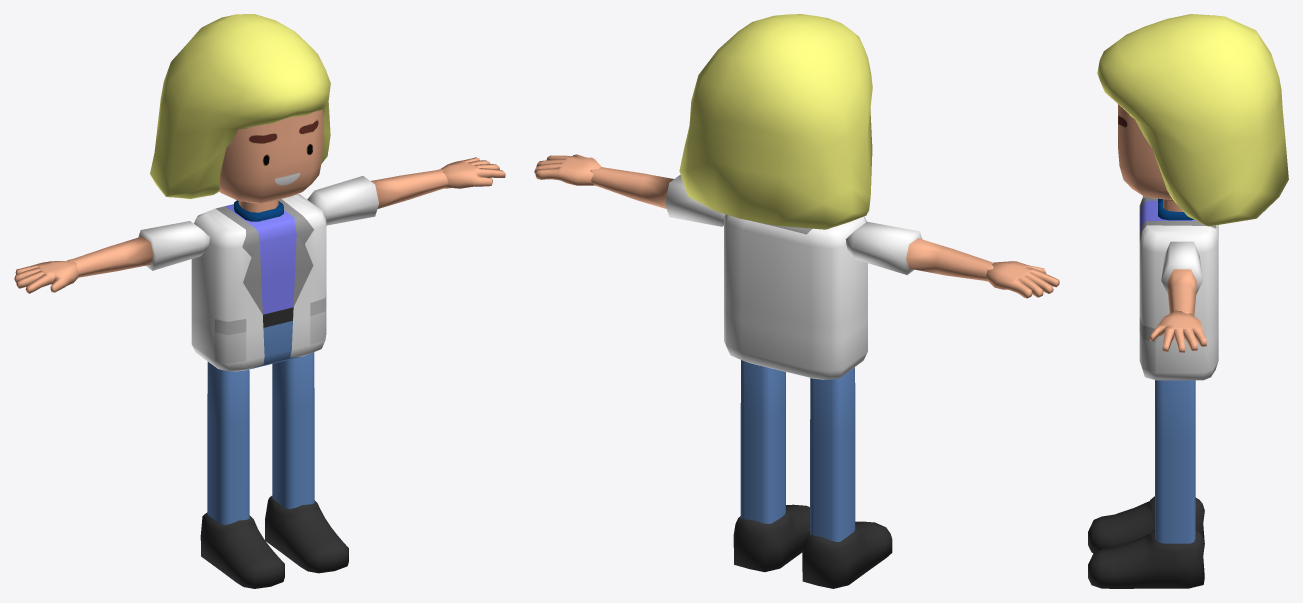
File: NPC_White02_BlondeHair06.gltf
The picture shows the model from 3 angles, left to right: view 1: azimuth 30°, elevation 25°; view 2: azimuth 150°, elevation 25°; view 3: azimuth 270°, elevation 25°; orthographic projection. The views are drawn at different scales.
Parts seen in each view (by area): view 1: NPC_Corpo_White2_BlondeHair.006; view 2: NPC_Corpo_White2_BlondeHair.006; view 3: NPC_Corpo_White2_BlondeHair.006.
Boxes of the visible parts, x1,y1,x2,y2 form: NPC_Corpo_White2_BlondeHair.006: [14, 14, 505, 588]; NPC_Corpo_White2_BlondeHair.006: [534, 14, 1059, 588]; NPC_Corpo_White2_BlondeHair.006: [1088, 14, 1288, 588].
Size of the model in its own units: 2.31 by 2.37 by 0.7967.
1 material, 1 textured.
